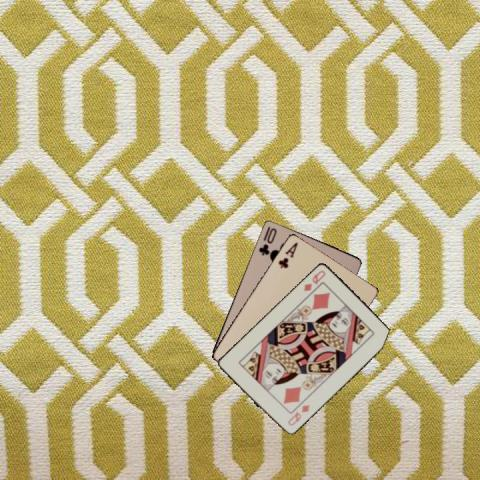10c: (255, 223, 278, 257)
Ac: (276, 239, 300, 269)
Qd: (284, 401, 310, 427), (300, 267, 326, 292)
